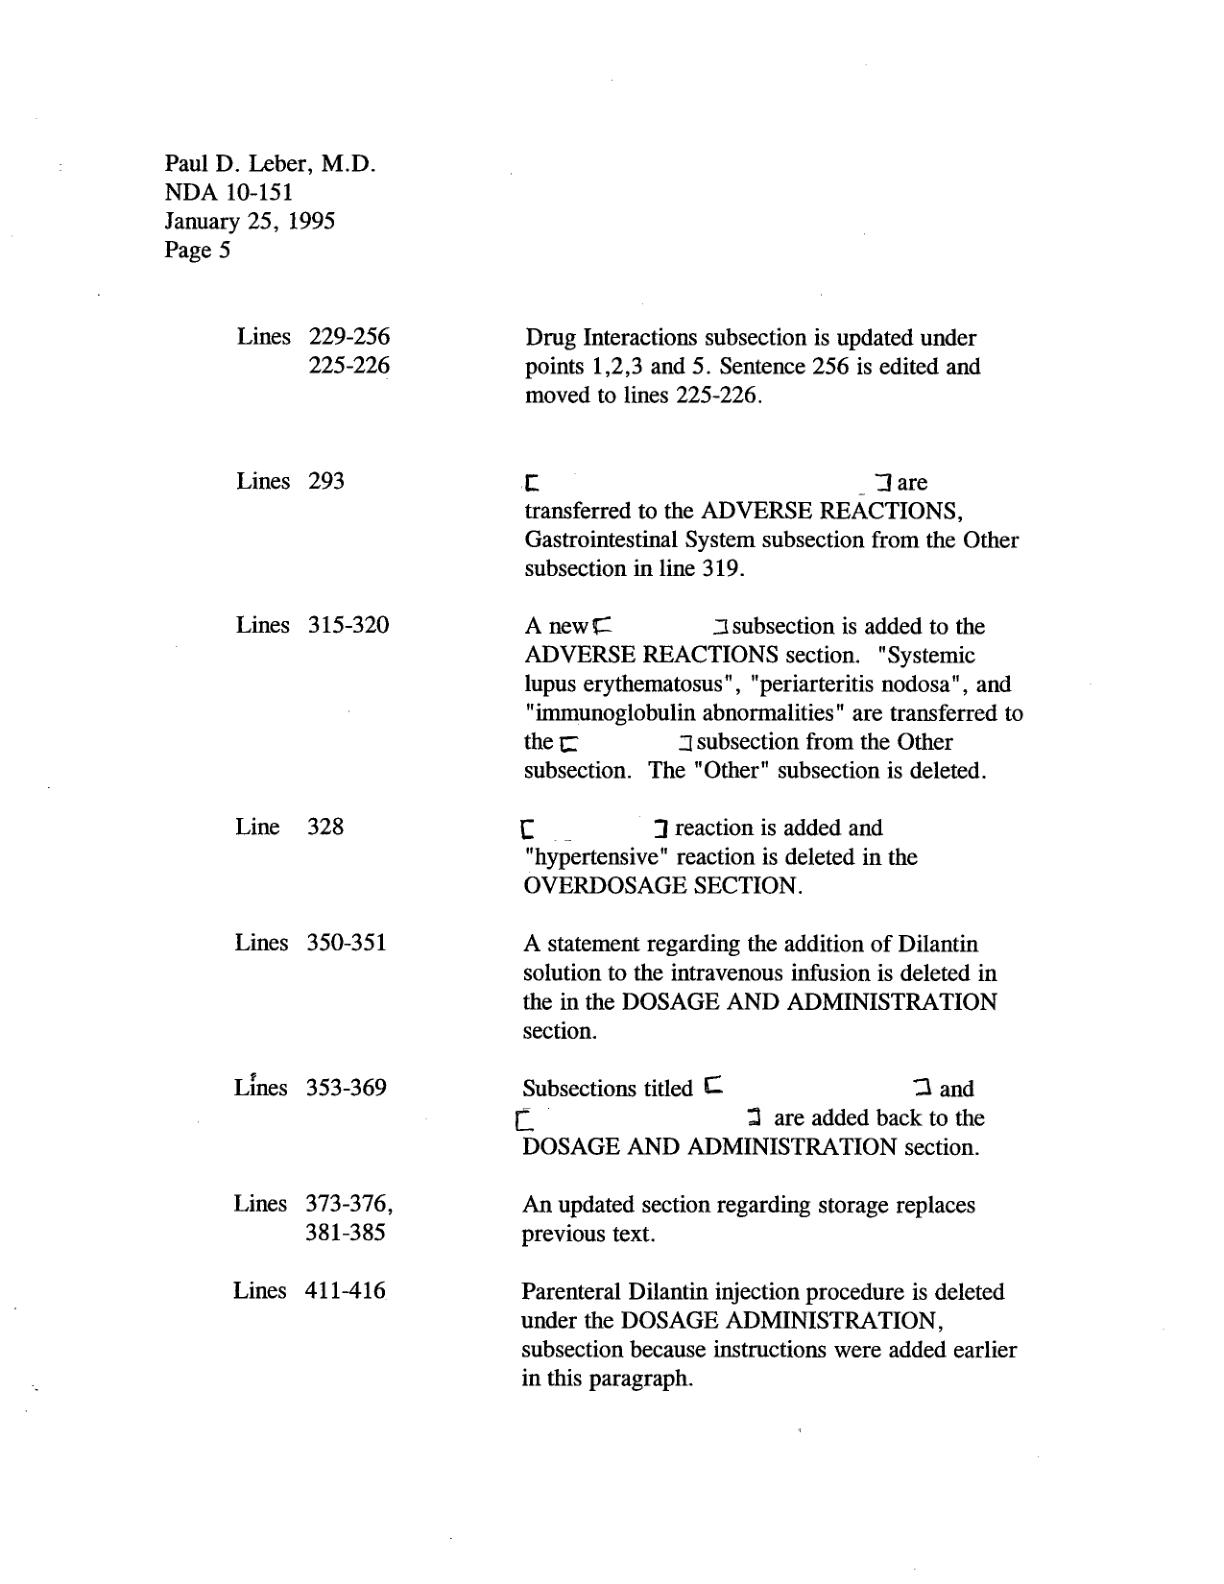nolines: (233, 319, 1026, 1390)
